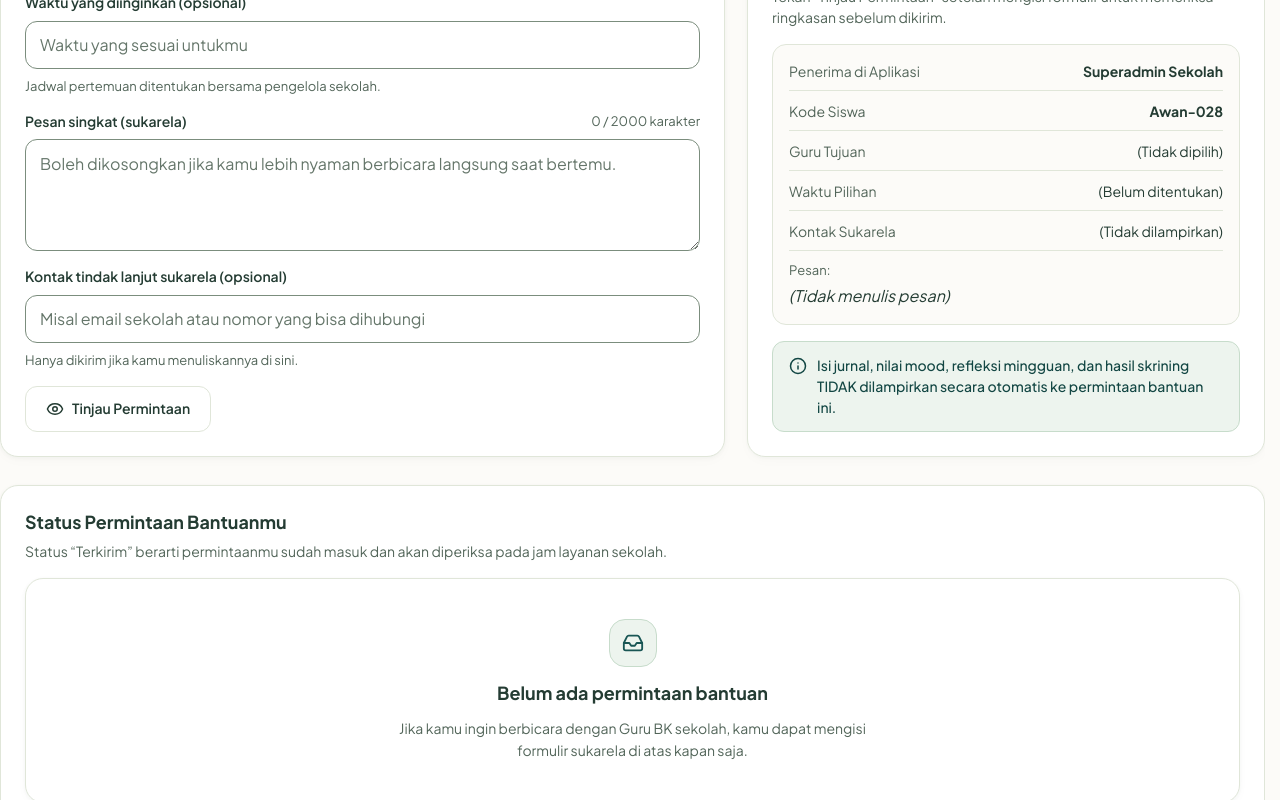
Test case: Frontend Komponen & Aturan Privasi PRD › D06 Bantuan: menampilkan pratinjau penerima Superadmin tanpa lampiran jurnal otomatis
(page scrolled)
Click the button "Tinjau Permintaan". click: (118, 409)
box: left=25, top=386, right=211, bottom=432
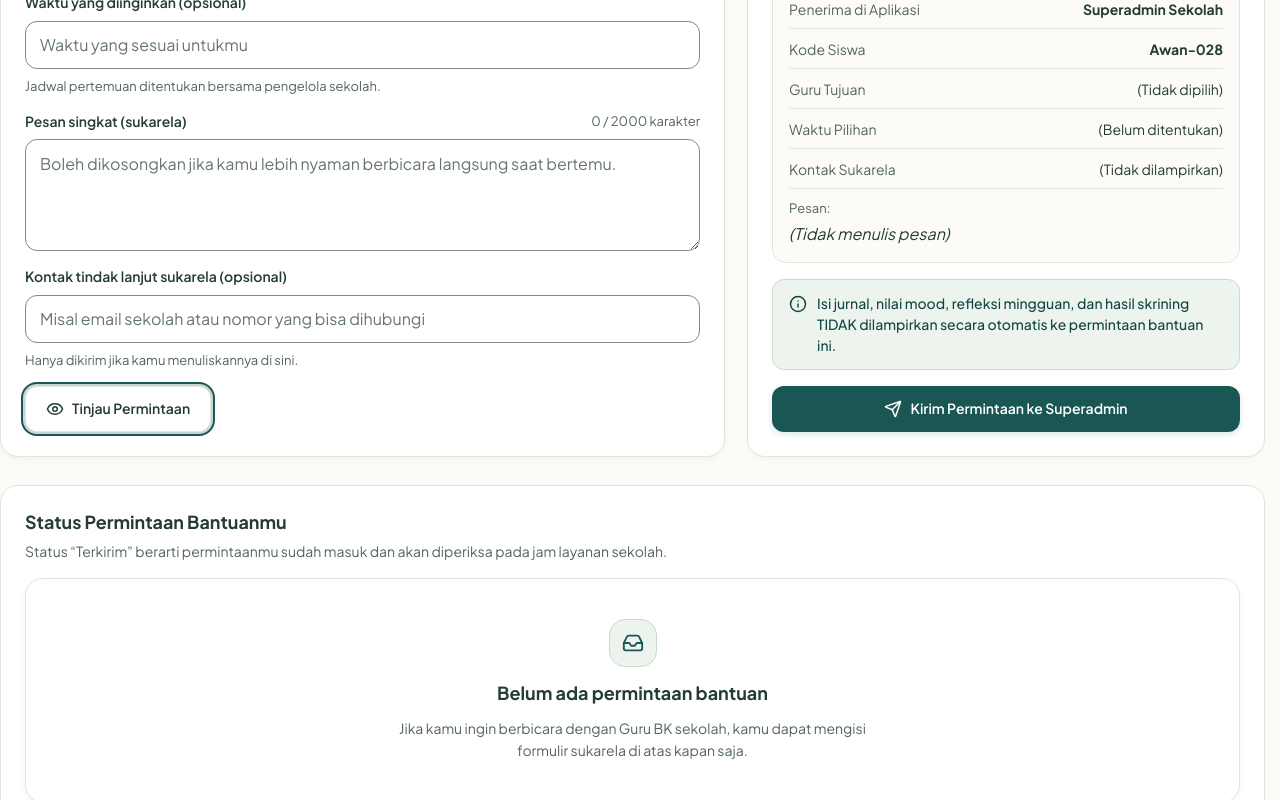
expect the text "TIDAK dilampirkan secara otomatis" is shown: met, box left=817, top=294, right=1203, bottom=354
expect the button "Kirim Permintaan ke Superadmin" is shown: met, box left=772, top=386, right=1240, bottom=432
